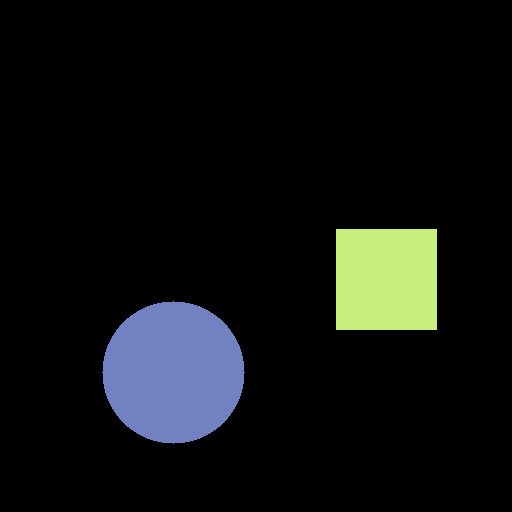circle: (102, 301, 244, 443)
square: (336, 229, 436, 329)
